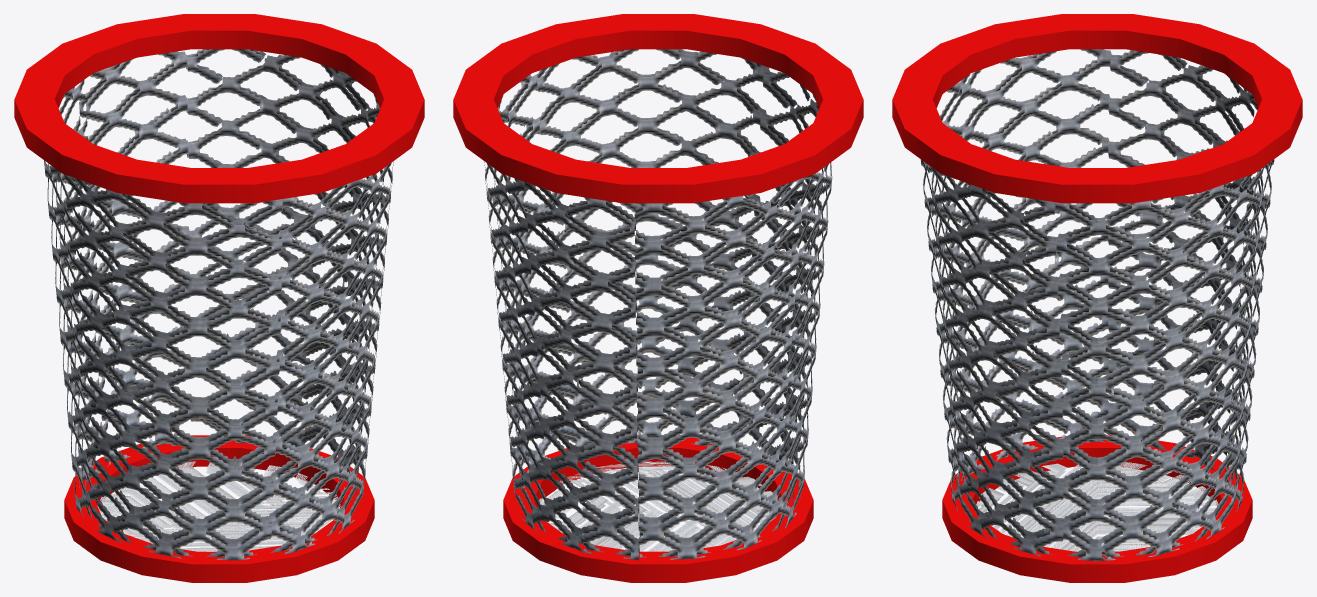
File: PapeleraF.fbx
The picture shows the model from 3 angles, left to right: view 1: azimuth 30°, elevation 25°; view 2: azimuth 150°, elevation 25°; view 3: azimuth 270°, elevation 25°; orthographic projection.
Parts seen in each view (by area): view 1: Cylinder007, Tube002, Tube001; view 2: Cylinder007, Tube002, Tube001; view 3: Cylinder007, Tube002, Tube001.
Boxes of the visible parts, x1=… form: Cylinder007: x1=44, y1=49, x2=393, y2=560; Tube002: x1=14, y1=14, x2=424, y2=203; Tube001: x1=64, y1=435, x2=374, y2=582; Cylinder007: x1=484, y1=49, x2=832, y2=560; Tube002: x1=453, y1=14, x2=863, y2=203; Tube001: x1=503, y1=435, x2=813, y2=582; Cylinder007: x1=920, y1=49, x2=1274, y2=561; Tube002: x1=892, y1=14, x2=1302, y2=203; Tube001: x1=942, y1=435, x2=1252, y2=582.
Size of the model in its own units: 0.4445 by 0.509 by 0.4514.
